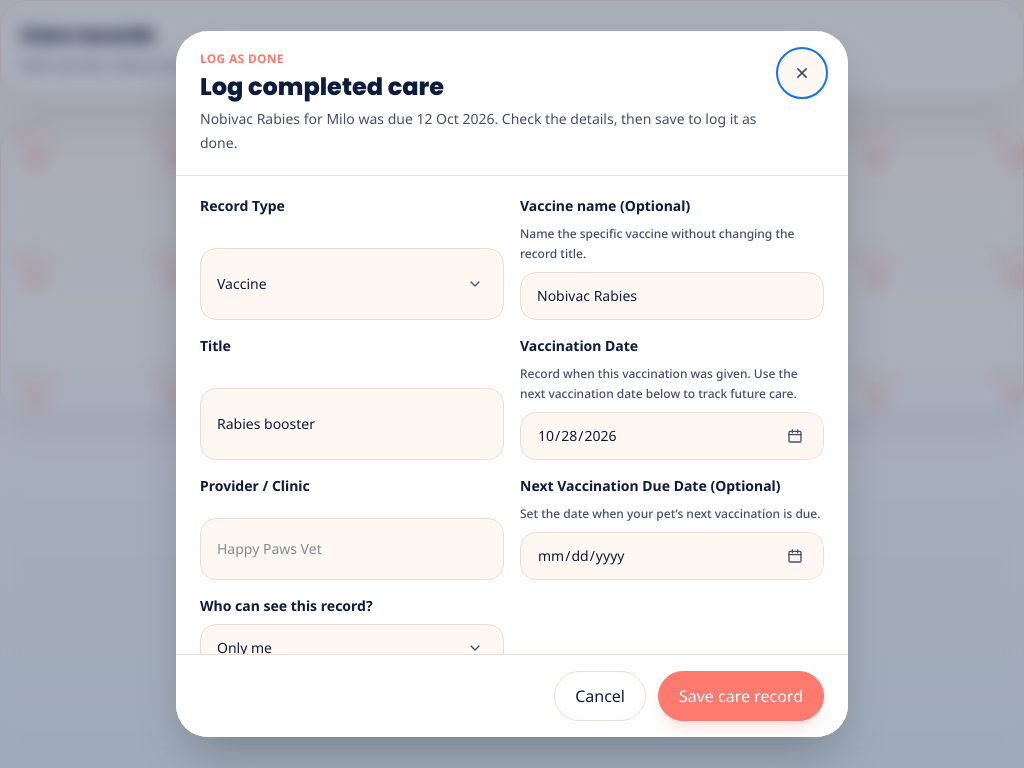
Test: Opening Log as done › changes nothing and records nothing when cancelled
The width and height of the screenshot is (1024, 768).
Click the button "Cancel": click(600, 696) left=554, top=671, right=646, bottom=721
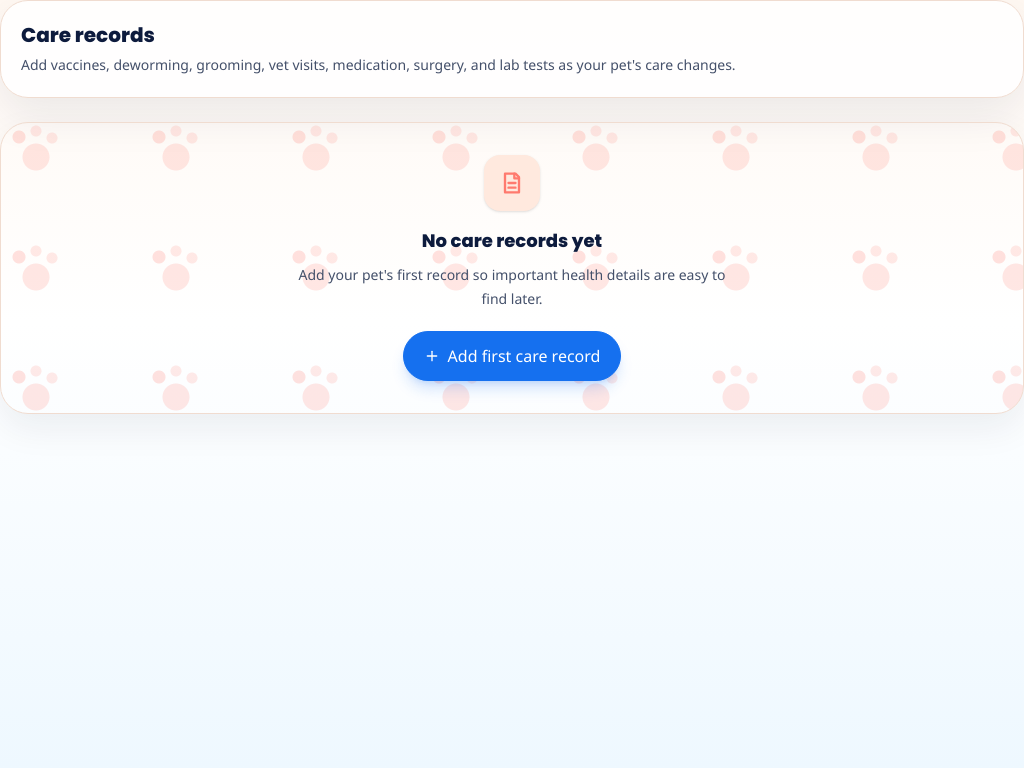
Result: the dialog is gone
